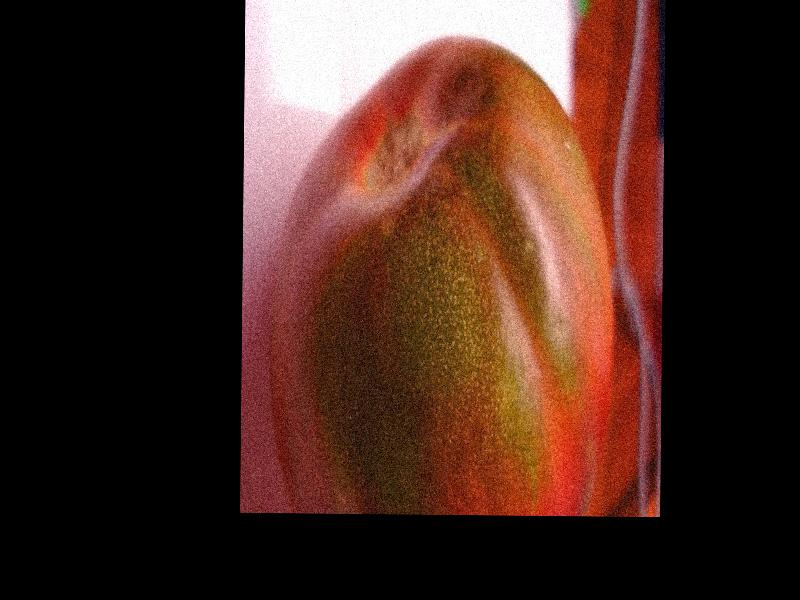Tomato: (269, 36, 617, 514)
